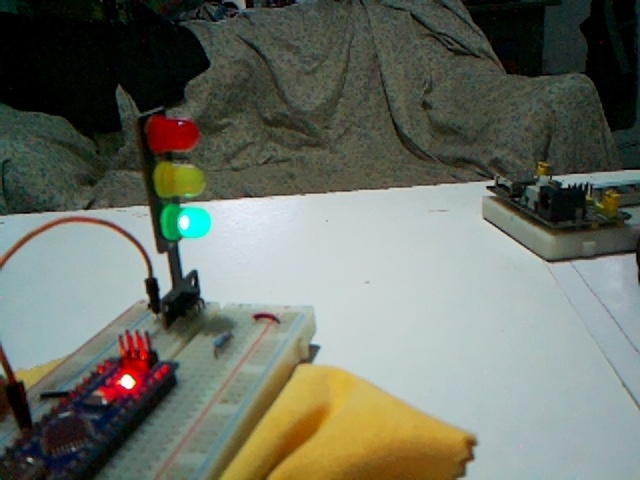traffic_light_green: (137, 109, 212, 326)
